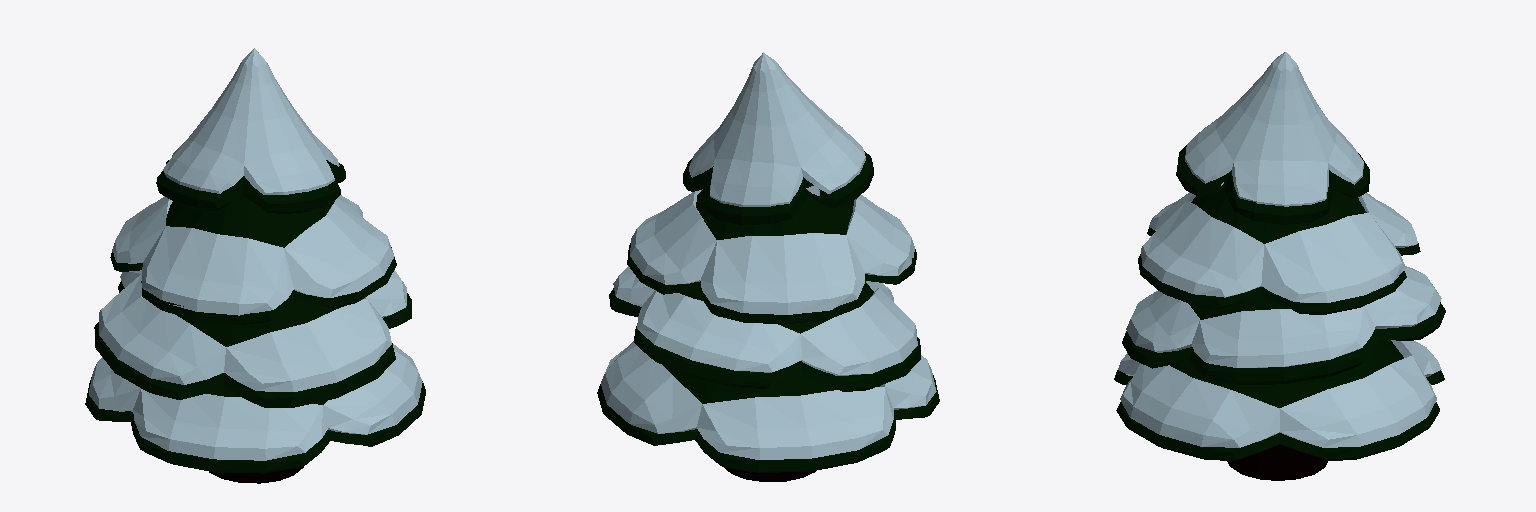
The model's file is Evergreen_1.obj.
3 renders of one model, left to right at view 1: azimuth 30°, elevation 25°; view 2: azimuth 150°, elevation 25°; view 3: azimuth 270°, elevation 25°, orthographic.
Visible parts, largest first — view 1: Snow_on_Tree_1, Tree_1, Trunk_1; view 2: Snow_on_Tree_1, Tree_1, Trunk_1; view 3: Snow_on_Tree_1, Tree_1, Trunk_1.
Part boxes in pixels (left/top/right/bottom): Snow_on_Tree_1: left=89, top=48, right=422, bottom=460; Tree_1: left=85, top=160, right=425, bottom=473; Trunk_1: left=209, top=466, right=303, bottom=483; Snow_on_Tree_1: left=601, top=52, right=936, bottom=459; Tree_1: left=597, top=151, right=939, bottom=472; Trunk_1: left=722, top=466, right=815, bottom=481; Snow_on_Tree_1: left=1118, top=52, right=1441, bottom=447; Tree_1: left=1114, top=145, right=1445, bottom=460; Trunk_1: left=1227, top=444, right=1327, bottom=480.
Bounding box in the file's own units: 0.7185 × 0.9972 × 0.7317.